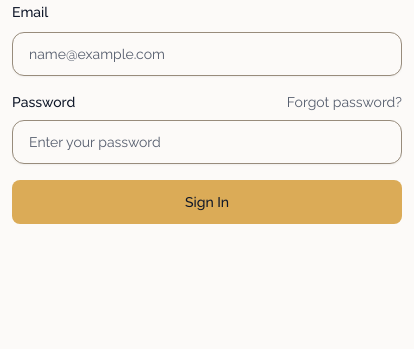
LoginForm › names an outage when the action sets the typed flag
Type "a@b.com" into the field labelled "Email".
click(207, 54); type("a@b.com")  # box [12,32,402,76]
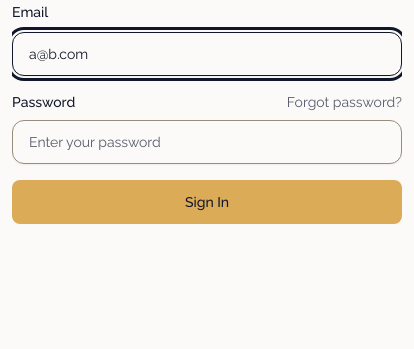
Type "secret123" into the password field labelled "Password".
click(207, 142); type("secret123")  # box [12,120,402,164]
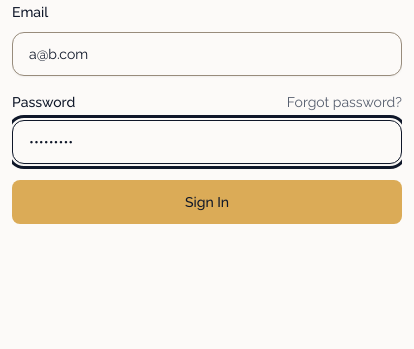
Click the button "Sign In".
click(207, 202)  # box [12,180,402,224]
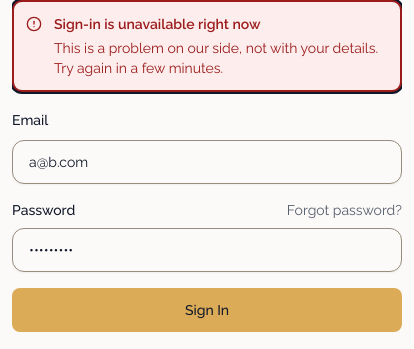
Check: the message shows "Sign-in is unavailable right now", box [54,16,261,32]
